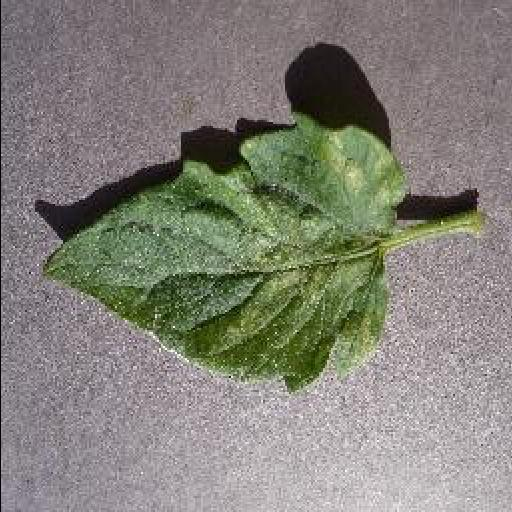disease_tomato: (38, 115, 408, 389)
